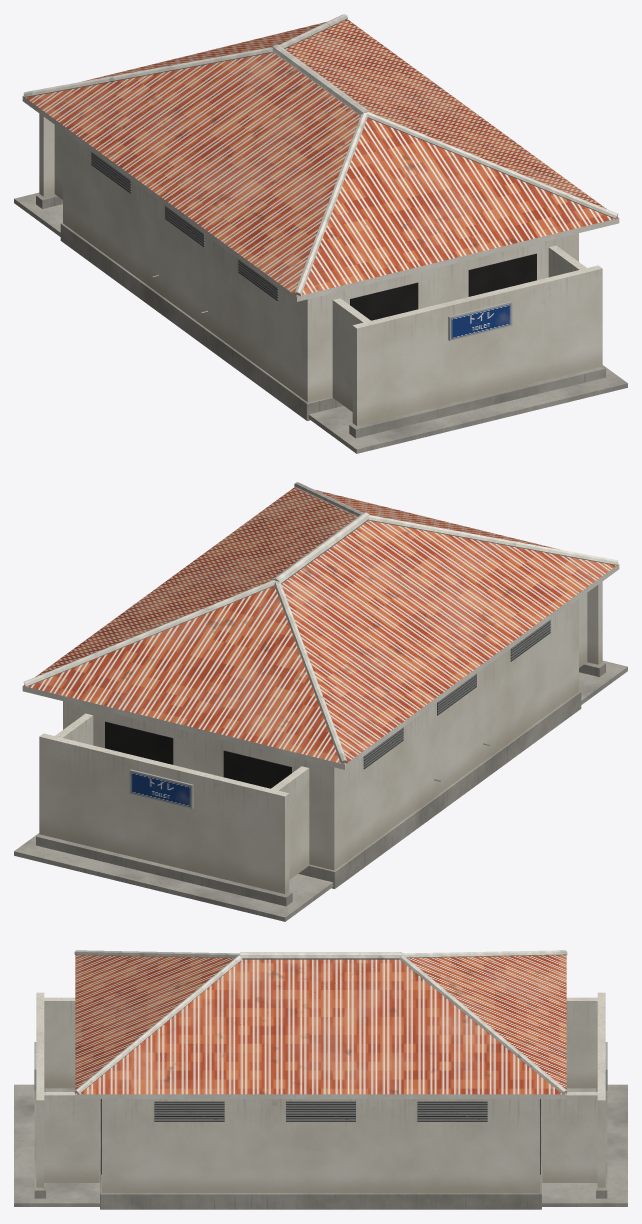
File: ParkToilet.gltf
3 views of the same model, one above another, from view 1: azimuth 30°, elevation 25°; view 2: azimuth 150°, elevation 25°; view 3: azimuth 270°, elevation 25° (orthographic). The views are drawn at different scales.
Parts seen in each view (by area): view 1: ParkToilet; view 2: ParkToilet; view 3: ParkToilet.
Part boxes in pixels (box(x1,y1,x2,y2)): ParkToilet: box(14, 14, 627, 453); ParkToilet: box(14, 482, 627, 921); ParkToilet: box(14, 950, 627, 1209).
Bounding box in the file's own units: 7.64 × 4.96 × 14.
Materials: 11 (11 with a texture image).
